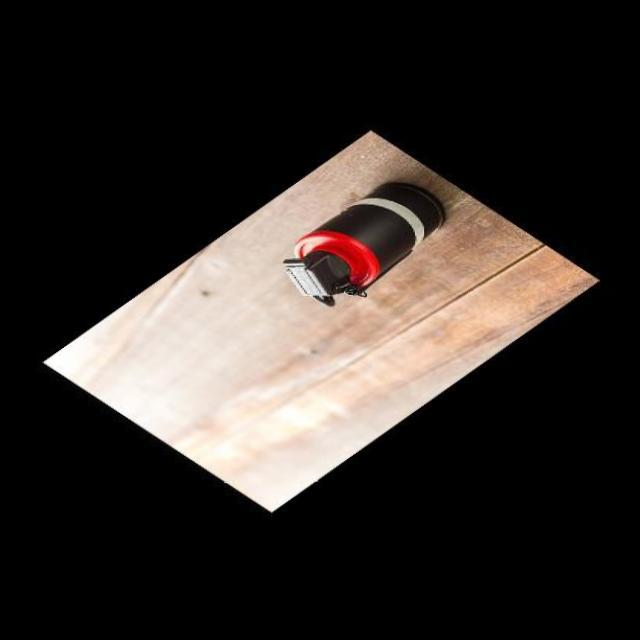grenade: (270, 169, 450, 305)
